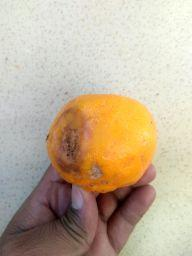Unripe: (47, 97, 158, 191)
